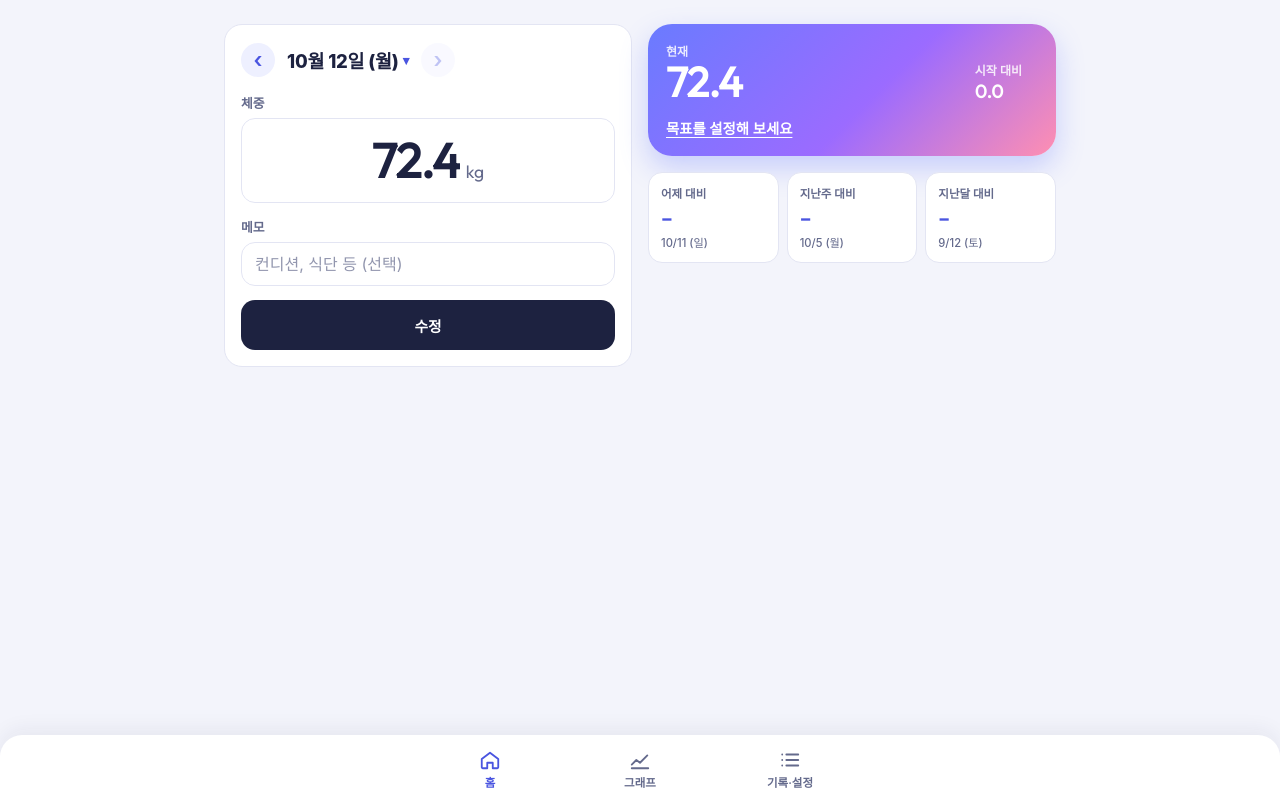
settings › saves a goal that shows on the home screen
The image size is (1280, 800).
Check: the navigation bar is shown, box [0,735,1279,799]
Click the button "기록·설정" at {"x": 790, "y": 770}, box [715,741,865,799]
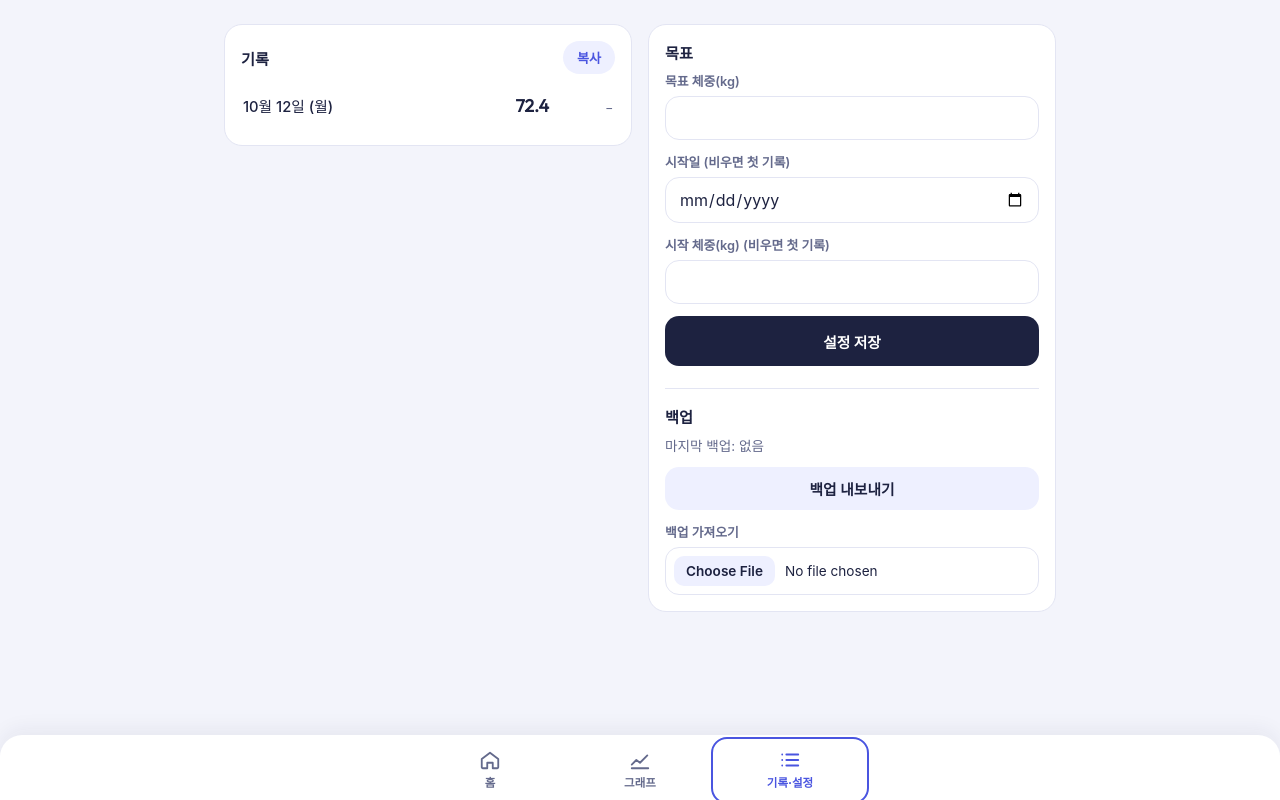
Type "68" into the field labelled "목표 체중(kg)" at {"x": 852, "y": 118}, box [665,96,1039,140]
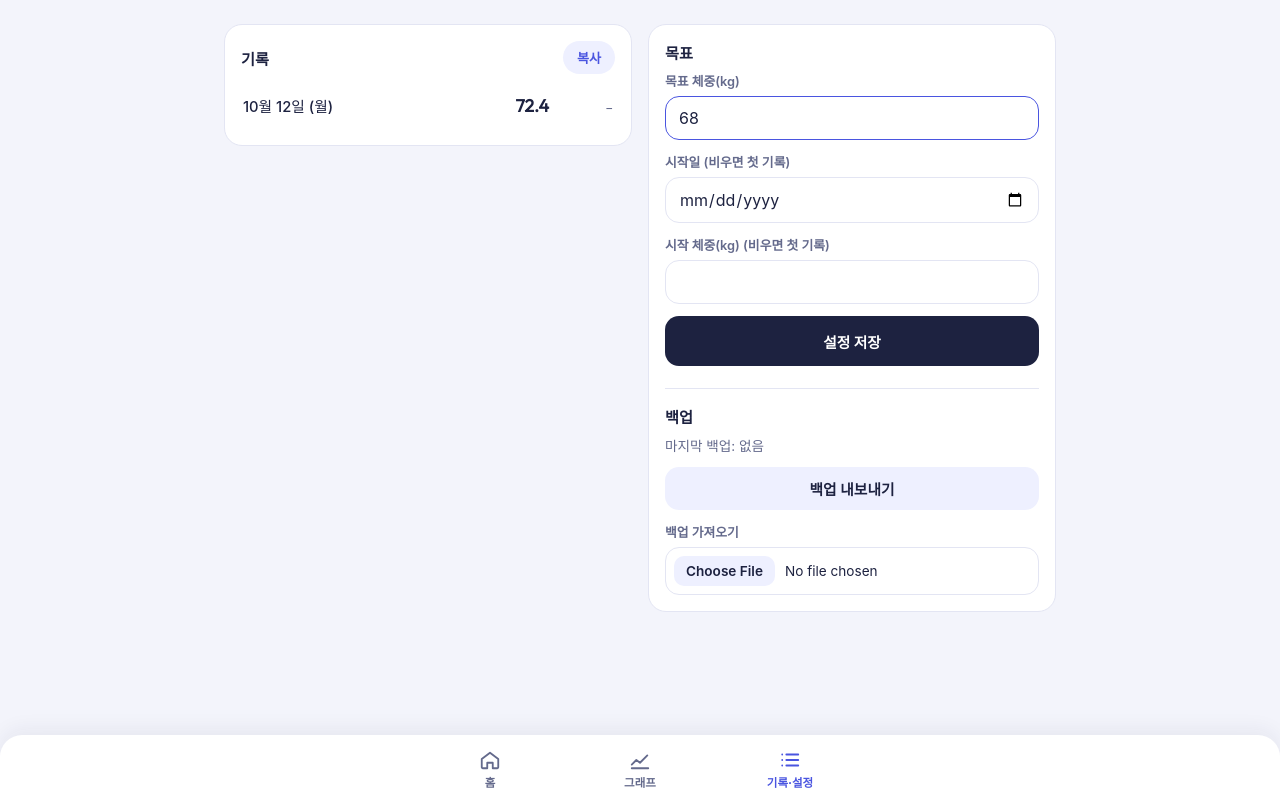
Click the button "설정 저장" at {"x": 852, "y": 341}, box [665,316,1039,366]
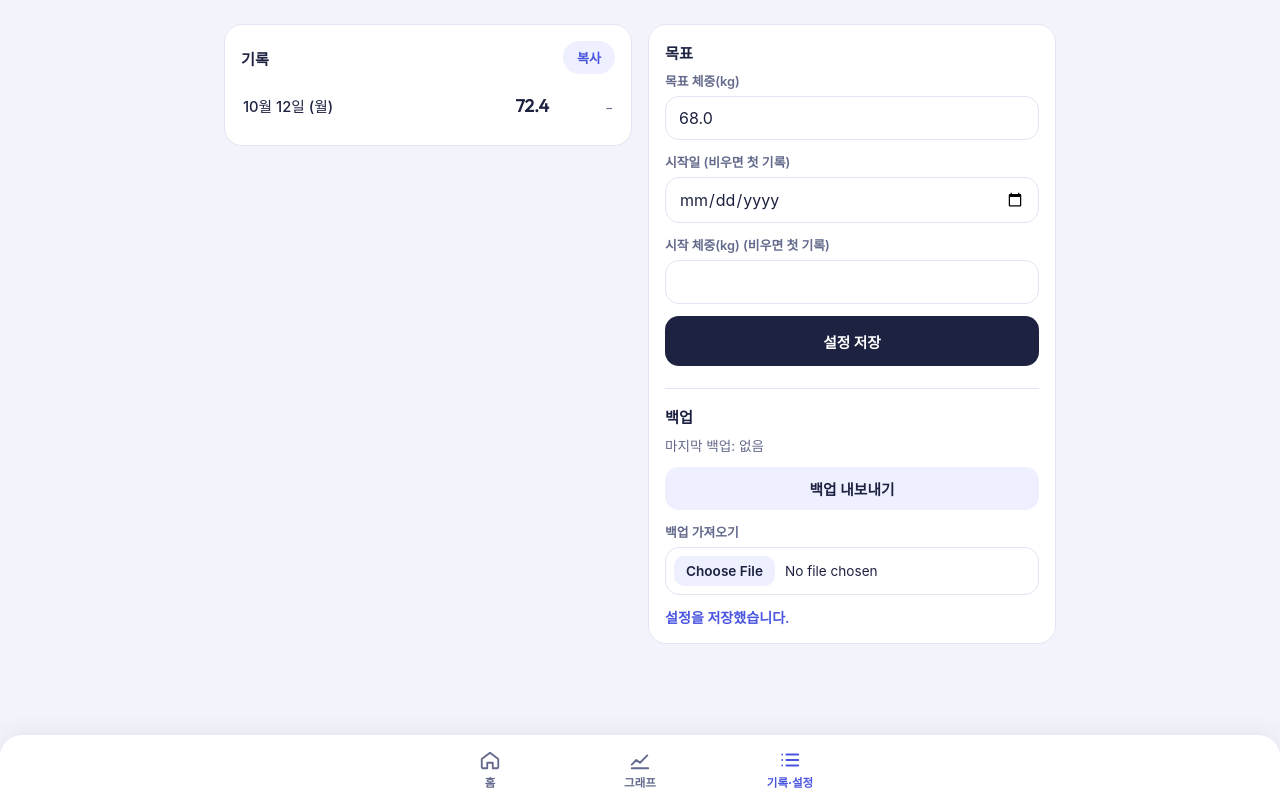
Check: the text "설정을 저장했습니다." is shown, box [665,609,790,626]
Click the button "홈" at {"x": 490, "y": 770}, box [415,741,565,799]
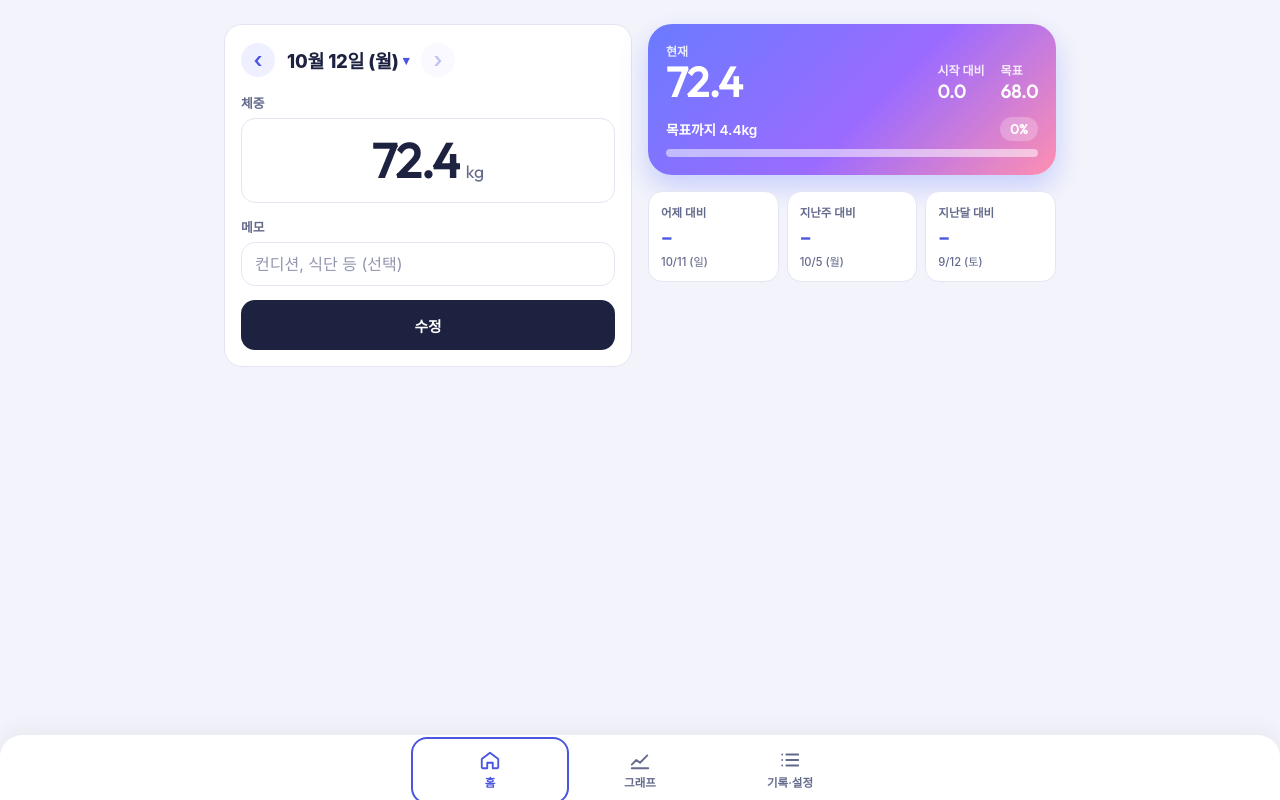
Check: the text "68.0" is shown, box [1001,80,1038,103]
